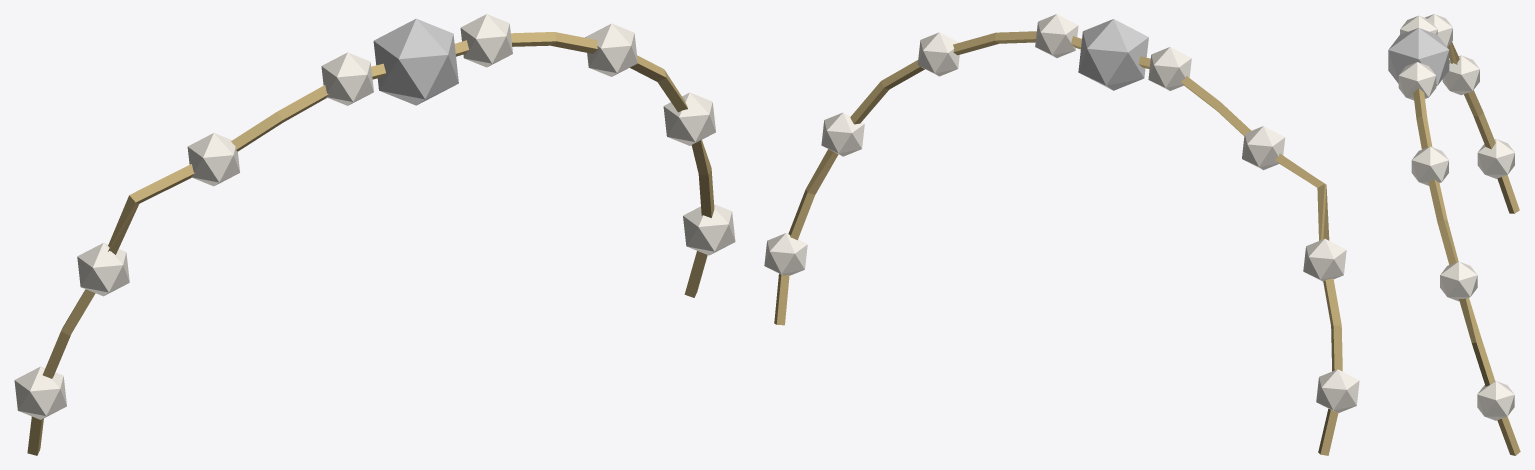
Rendered from acc_headband_pearl_v01.glb.
3 renders of one model, left to right at view 1: azimuth 30°, elevation 25°; view 2: azimuth 150°, elevation 25°; view 3: azimuth 270°, elevation 25°, orthographic. The views are drawn at different scales.
Visible parts, largest first — view 1: acc_headband_pearl; view 2: acc_headband_pearl; view 3: acc_headband_pearl.
Part boxes in pixels (x1,y1,x2,y2): acc_headband_pearl: (14,14,735,455); acc_headband_pearl: (764,14,1359,455); acc_headband_pearl: (1388,14,1520,455).
Size of the model in its own units: 0.446 by 0.2431 by 0.0961.
